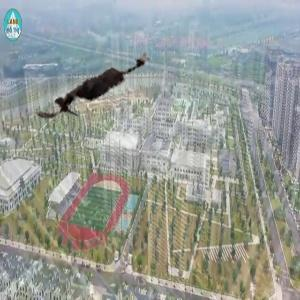drone: (32, 14, 173, 155)
